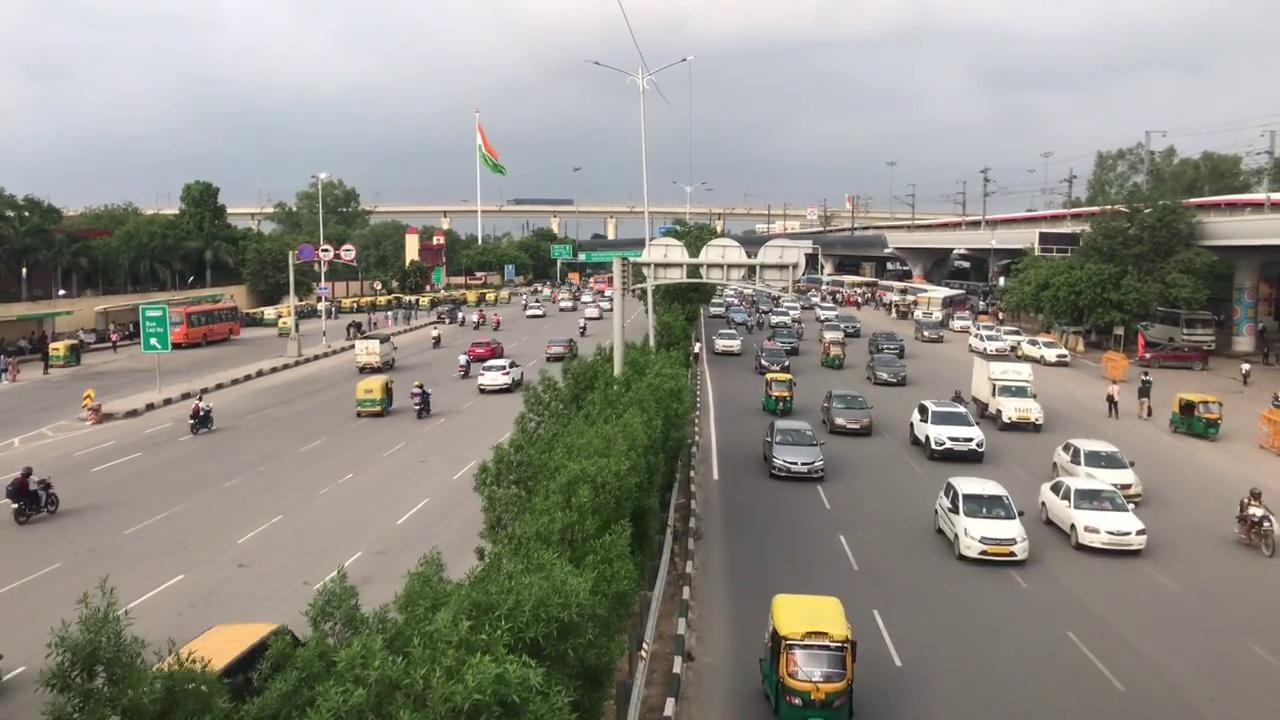Auto: (761, 591, 859, 718), (1170, 390, 1224, 444), (352, 375, 395, 419), (762, 372, 795, 416), (821, 340, 848, 373)
Bike: (1235, 480, 1277, 558)
Car: (1038, 475, 1147, 555), (934, 474, 1028, 566), (911, 397, 985, 462), (766, 416, 827, 481), (822, 388, 873, 437), (865, 353, 909, 388)
Truck: (965, 342, 1044, 432)
